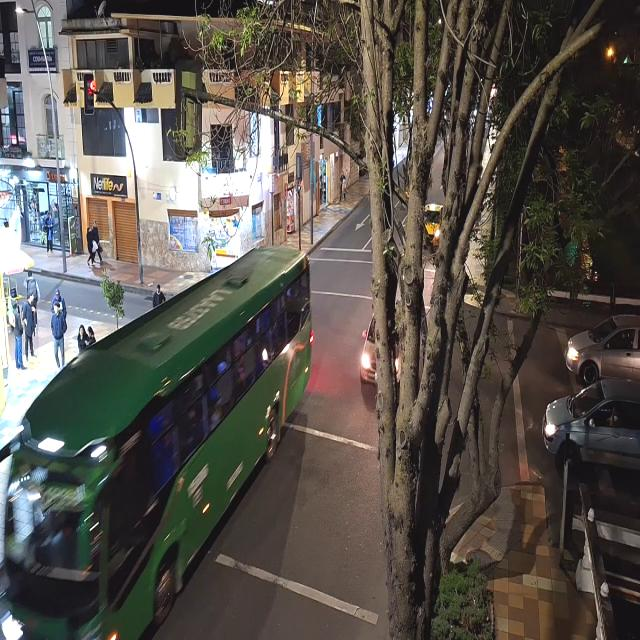BUS: (3, 258, 311, 640)
SED: (546, 398, 640, 459), (566, 316, 638, 375)
